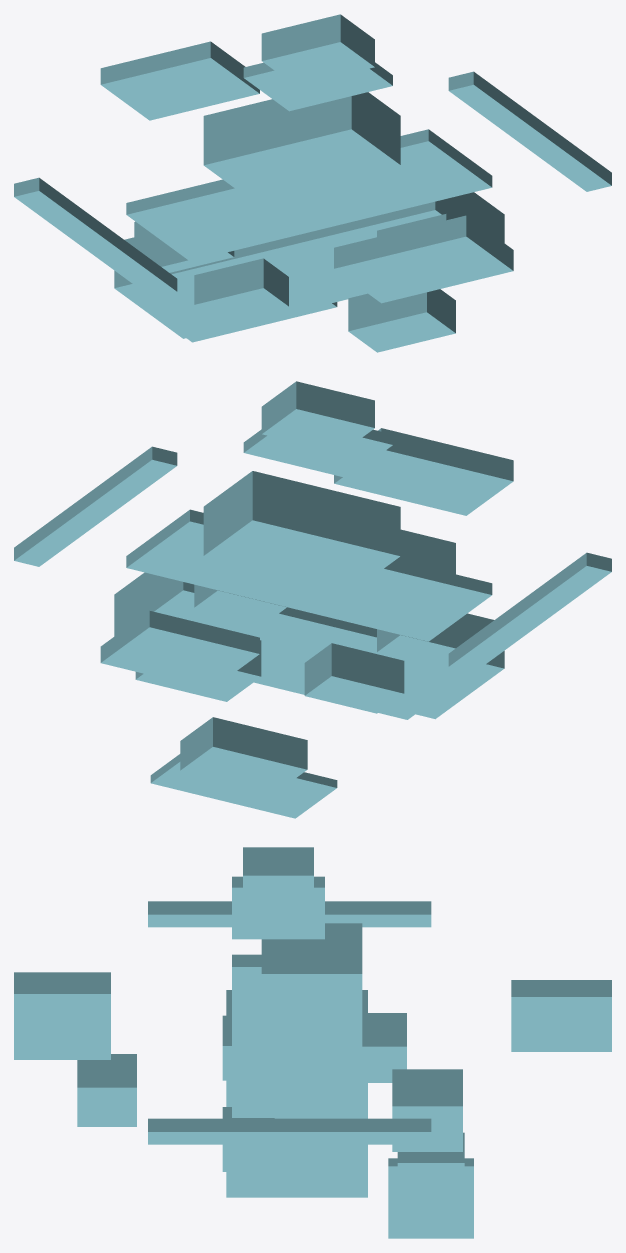
File: hatteras-63-motor-yacht.glb
3 views of the same model, one above another, from view 1: azimuth 30°, elevation 25°; view 2: azimuth 150°, elevation 25°; view 3: azimuth 270°, elevation 25° (orthographic). The views are drawn at different scales.
Visible parts, largest first — view 1: HatterasMainDeck, HatterasSalon, HatterasHull, HatterasBow, HatterasCockpit, HatterasFlybridge, HatterasStarboardWalkDeck, HatterasPortWalkDeck, HatterasVipStateroom, HatterasDinette, HatterasFlybridgeDeck, HatterasMachineryDeck (+2 smaller); view 2: HatterasSalon, HatterasMainDeck, HatterasHull, HatterasBow, HatterasCockpit, HatterasEngineRoom, HatterasFlybridge, HatterasStarboardWalkDeck, HatterasPortWalkDeck, HatterasGuestStateroom, HatterasMachineryDeck, HatterasFlybridgeDeck (+5 smaller); view 3: HatterasMainDeck, HatterasSalon, HatterasBow, HatterasStarboardWalkDeck, HatterasCockpit, HatterasHull, HatterasPortWalkDeck, HatterasMasterStateroom, HatterasFlybridge, HatterasVipStateroom, HatterasEngineRoom, HatterasMachineryDeck (+4 smaller).
Boxes of the visible parts, bbox=[...] form: HatterasMainDeck: bbox=[126, 129, 492, 261]; HatterasSalon: bbox=[203, 92, 400, 201]; HatterasHull: bbox=[114, 192, 504, 338]; HatterasBow: bbox=[334, 215, 513, 303]; HatterasCockpit: bbox=[100, 41, 259, 120]; HatterasFlybridge: bbox=[261, 14, 374, 86]; HatterasStarboardWalkDeck: bbox=[448, 71, 611, 191]; HatterasPortWalkDeck: bbox=[14, 177, 177, 297]; HatterasVipStateroom: bbox=[348, 289, 455, 352]; HatterasDinette: bbox=[194, 258, 288, 323]; HatterasFlybridgeDeck: bbox=[243, 62, 392, 111]; HatterasMachineryDeck: bbox=[186, 302, 337, 342]; HatterasSalon: bbox=[203, 471, 400, 592]; HatterasMainDeck: bbox=[126, 509, 492, 641]; HatterasHull: bbox=[114, 572, 504, 719]; HatterasBow: bbox=[334, 428, 513, 515]; HatterasCockpit: bbox=[100, 611, 259, 689]; HatterasEngineRoom: bbox=[180, 717, 307, 793]; HatterasFlybridge: bbox=[261, 381, 374, 453]; HatterasStarboardWalkDeck: bbox=[14, 446, 177, 566]; HatterasPortWalkDeck: bbox=[448, 552, 611, 672]; HatterasGuestStateroom: bbox=[304, 643, 404, 713]; HatterasMachineryDeck: bbox=[150, 754, 337, 818]; HatterasFlybridgeDeck: bbox=[243, 429, 392, 478]; HatterasMainDeck: bbox=[232, 954, 362, 1117]; HatterasSalon: bbox=[261, 923, 362, 1047]; HatterasBow: bbox=[14, 972, 110, 1059]; HatterasStarboardWalkDeck: bbox=[148, 1118, 431, 1144]; HatterasCockpit: bbox=[511, 980, 611, 1051]; HatterasHull: bbox=[226, 990, 367, 1197]; HatterasPortWalkDeck: bbox=[148, 901, 431, 927]; HatterasMasterStateroom: bbox=[392, 1069, 462, 1151]; HatterasFlybridge: bbox=[243, 847, 313, 914]; HatterasVipStateroom: bbox=[77, 1054, 136, 1126]; HatterasEngineRoom: bbox=[397, 1132, 464, 1210]; HatterasMachineryDeck: bbox=[388, 1158, 473, 1238].
Bounding box in the file's own units: 7.3 × 4.97 × 8.02.
